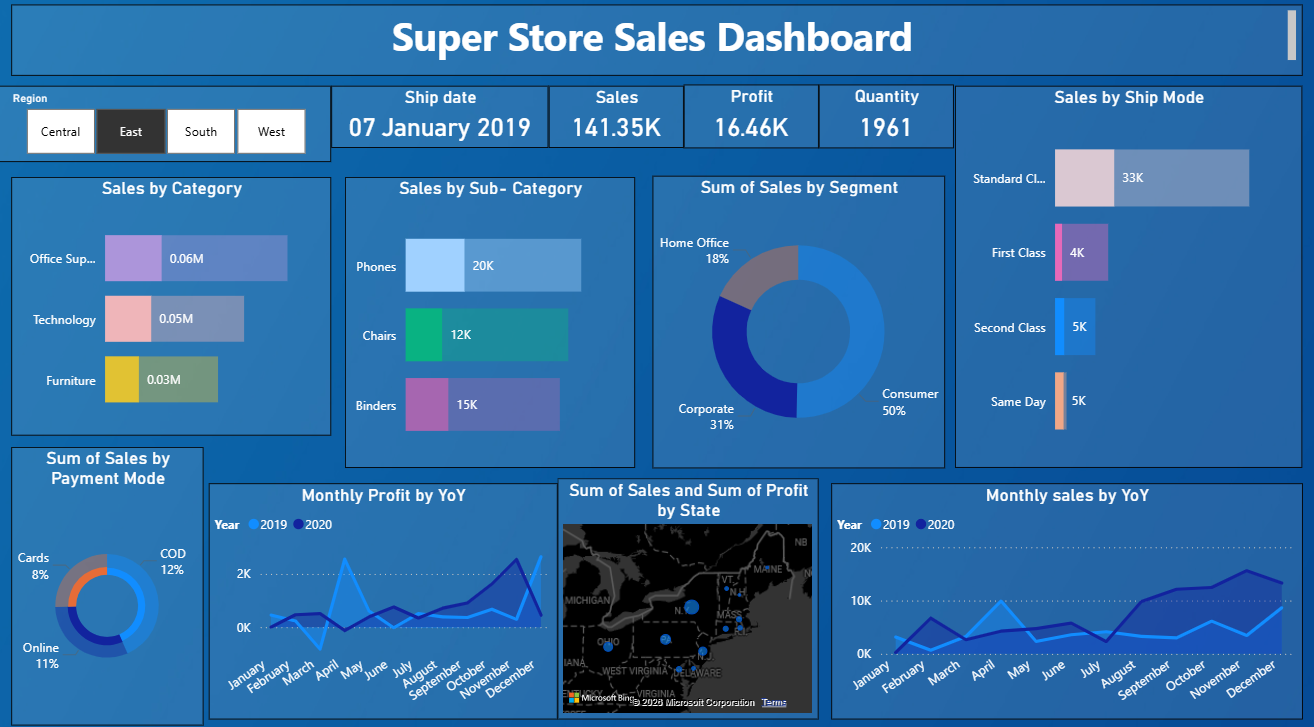

The page's visual inventory and layout, read from the dashboard file:
{"tool":"powerbi","page":{"name":"Page 1","canvas":[1280,720],"ordinal":0},"visuals":[{"type":"clusteredBarChart","title":"Sales by Category","fields":{"Category":["SuperStore_Sales_Dataset.Category"],"Y":["Sum(SuperStore_Sales_Dataset.Sales)"]},"box":[20.5,178.6,308.8,249.7],"z":0},{"type":"clusteredBarChart","title":"Sales by Sub- Category","fields":{"Y":["Sum(SuperStore_Sales_Dataset.Sales)"],"Category":["SuperStore_Sales_Dataset.Sub-Category"]},"box":[342.6,178.6,279.9,281.1],"z":1000},{"type":"clusteredBarChart","title":"Sales by Ship Mode","fields":{"Y":["Sum(SuperStore_Sales_Dataset.Sales)"],"Category":["SuperStore_Sales_Dataset.Ship Mode"]},"box":[931.4,90.5,335.4,369.2],"z":2000},{"type":"areaChart","title":"Monthly sales by YoY","fields":{"Category":["SuperStore_Sales_Dataset.Order Date.Variation.Date Hierarchy.Month","SuperStore_Sales_Dataset.Order Date.Variation.Date Hierarchy.Day"],"Y":["Sum(SuperStore_Sales_Dataset.Sales)"],"Series":["SuperStore_Sales_Dataset.Order Date.Variation.Date Hierarchy.Year"]},"box":[811.9,474.1,454.8,228],"z":3000},{"type":"areaChart","title":"Monthly Profit by YoY","fields":{"Category":["SuperStore_Sales_Dataset.Order Date.Variation.Date Hierarchy.Month","SuperStore_Sales_Dataset.Order Date.Variation.Date Hierarchy.Day"],"Series":["SuperStore_Sales_Dataset.Order Date.Variation.Date Hierarchy.Year"],"Y":["Sum(SuperStore_Sales_Dataset.Profit)"]},"box":[211.1,474.1,336.6,228],"z":4000},{"type":"map","fields":{"Category":["SuperStore_Sales_Dataset.State"],"Size":["Sum(SuperStore_Sales_Dataset.Sales)"]},"box":[547.7,469.3,252.1,232.8],"z":5000},{"type":"donutChart","fields":{"Category":["SuperStore_Sales_Dataset.Segment"],"Y":["Sum(SuperStore_Sales_Dataset.Sales)"]},"box":[639.4,177.3,282.3,282.3],"z":6000},{"type":"donutChart","fields":{"Category":["SuperStore_Sales_Dataset.Payment Mode"],"Y":["Sum(SuperStore_Sales_Dataset.Sales)"]},"box":[20.5,439.1,185.8,269],"z":7000},{"type":"slicer","fields":{"Values":["SuperStore_Sales_Dataset.Region"]},"box":[8.4,90.5,320.9,73.6],"z":8000},{"type":"textbox","box":[20.5,12.1,1246.3,68.8],"z":9000},{"type":"card","title":"Sales","fields":{"Values":["Sum(SuperStore_Sales_Dataset.Sales)"]},"box":[539.3,90.5,130.3,60.3],"z":10000},{"type":"card","title":"Profit","fields":{"Values":["Sum(SuperStore_Sales_Dataset.Profit)"]},"box":[669.6,89.3,130.3,61.5],"z":11000},{"type":"card","title":"Quantity","fields":{"Values":["Sum(SuperStore_Sales_Dataset.Quantity)"]},"box":[799.9,89.3,130.3,61.5],"z":12000},{"type":"card","title":"Ship date","fields":{"Values":["Min(SuperStore_Sales_Dataset.Ship Date)"]},"box":[329.4,90.5,209.9,60.3],"z":12001}]}

Visuals, with their boxes in screenshot pixels (x1, y1, x2, y2), scaled from the page's 1280x720 canvas onto the 1314x727 screenshot:
"Sales by Category" clusteredBarChart: [left=21, top=180, right=338, bottom=432]
"Sales by Sub- Category" clusteredBarChart: [left=352, top=180, right=639, bottom=464]
"Sales by Ship Mode" clusteredBarChart: [left=956, top=91, right=1300, bottom=464]
"Monthly sales by YoY" areaChart: [left=833, top=479, right=1300, bottom=709]
"Monthly Profit by YoY" areaChart: [left=217, top=479, right=562, bottom=709]
map - SuperStore_Sales_Dataset.State x Sum(SuperStore_Sales_Dataset.Sales): [left=562, top=474, right=821, bottom=709]
donutChart - SuperStore_Sales_Dataset.Segment x Sum(SuperStore_Sales_Dataset.Sales): [left=656, top=179, right=946, bottom=464]
donutChart - SuperStore_Sales_Dataset.Payment Mode x Sum(SuperStore_Sales_Dataset.Sales): [left=21, top=443, right=212, bottom=715]
slicer - SuperStore_Sales_Dataset.Region: [left=9, top=91, right=338, bottom=166]
textbox: [left=21, top=12, right=1300, bottom=82]
"Sales" card: [left=554, top=91, right=687, bottom=152]
"Profit" card: [left=687, top=90, right=821, bottom=152]
"Quantity" card: [left=821, top=90, right=955, bottom=152]
"Ship date" card: [left=338, top=91, right=554, bottom=152]
